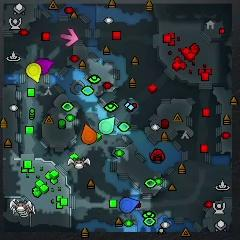p1: (120, 198, 140, 213)
p2: (99, 117, 115, 134)
p3: (35, 58, 54, 74)
p4: (26, 63, 42, 82)
p5: (81, 124, 97, 144)
x1: (61, 28, 79, 46)
